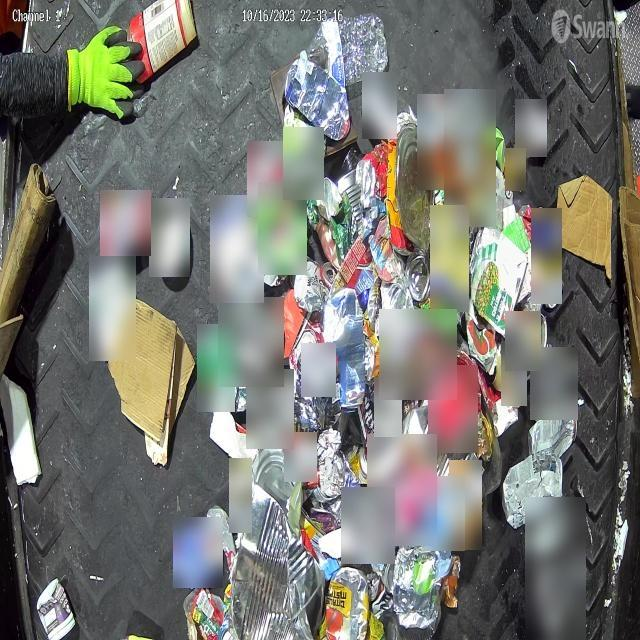plastic_bottle: (300, 15, 388, 87)
